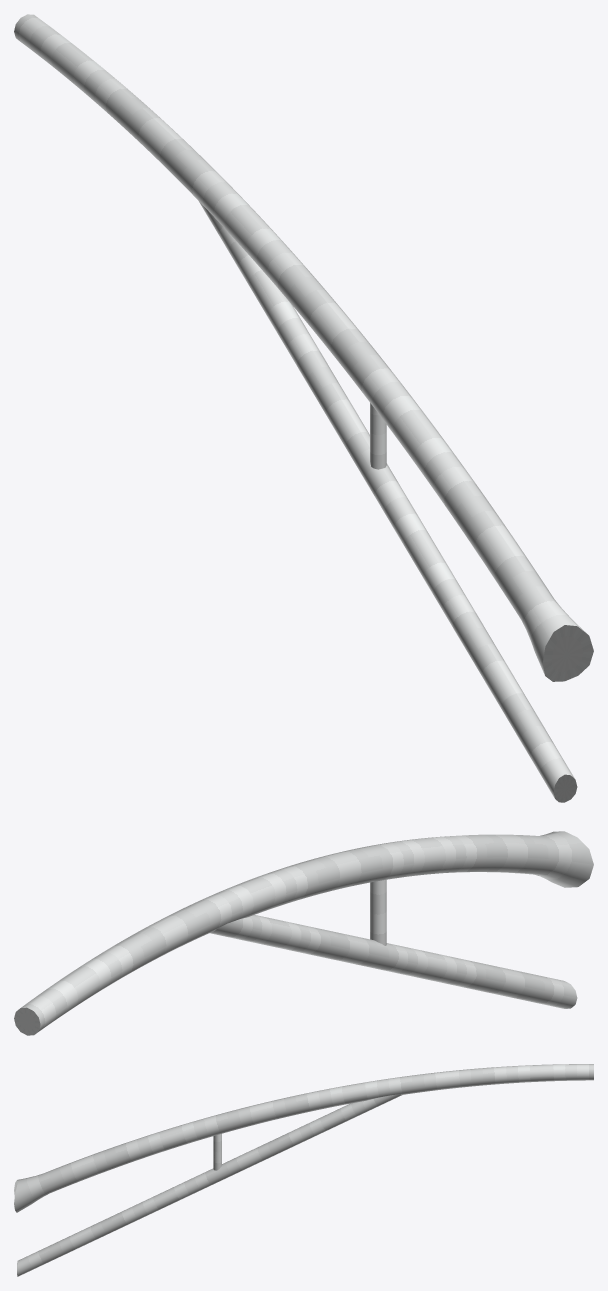
Rendered from luminairearm_truss15ft_inv.obj.
3 renders of one model, top to bottom at view 1: azimuth 30°, elevation 25°; view 2: azimuth 150°, elevation 25°; view 3: azimuth 270°, elevation 25°, orthographic. The views are drawn at different scales.
Visible parts, largest first — view 1: luminairearm_truss15ft_inv; view 2: luminairearm_truss15ft_inv; view 3: luminairearm_truss15ft_inv.
Part boxes in pixels (x1,y1,x2,y2): luminairearm_truss15ft_inv: (14,14,593,802); luminairearm_truss15ft_inv: (14,831,593,1035); luminairearm_truss15ft_inv: (14,1064,593,1276).
Size of the model in its own units: 0.0547 by 0.4025 by 1.
